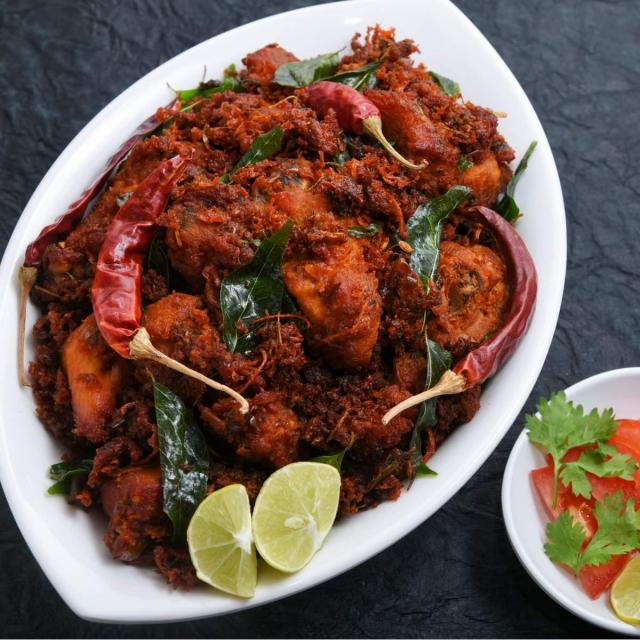chicken: (32, 43, 459, 570)
